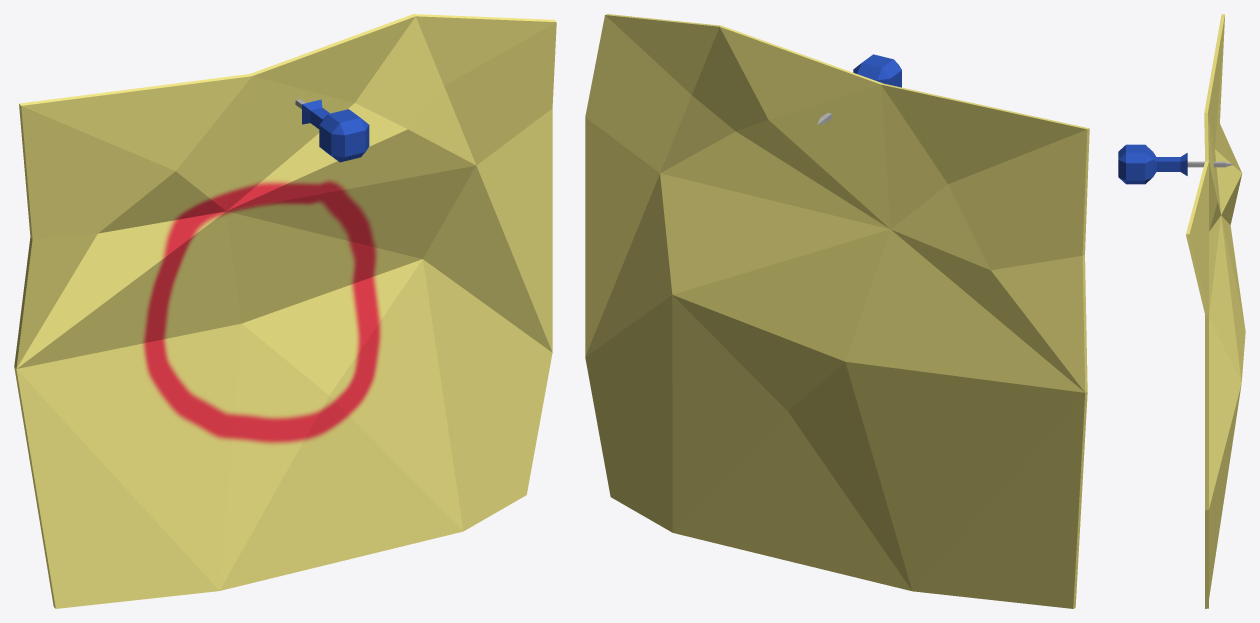
The model's file is Paper Letter O.fbx.
3 views of the same model, side by side, from view 1: azimuth 30°, elevation 25°; view 2: azimuth 150°, elevation 25°; view 3: azimuth 270°, elevation 25° (orthographic). The views are drawn at different scales.
Visible parts, largest first — view 1: Papier, Punaise; view 2: Papier, Punaise; view 3: Papier, Punaise.
Boxes of the visible parts, x1,y1,x2,y2 form: Papier: [14, 14, 556, 608]; Punaise: [295, 99, 369, 162]; Papier: [585, 14, 1089, 608]; Punaise: [817, 54, 901, 124]; Papier: [1186, 14, 1245, 608]; Punaise: [1118, 144, 1233, 184].
Size of the model in its own units: 208 by 200 by 54.89.
